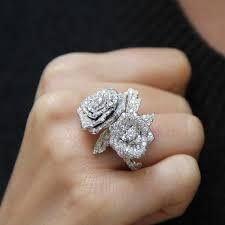Ring: (64, 81, 167, 175)
